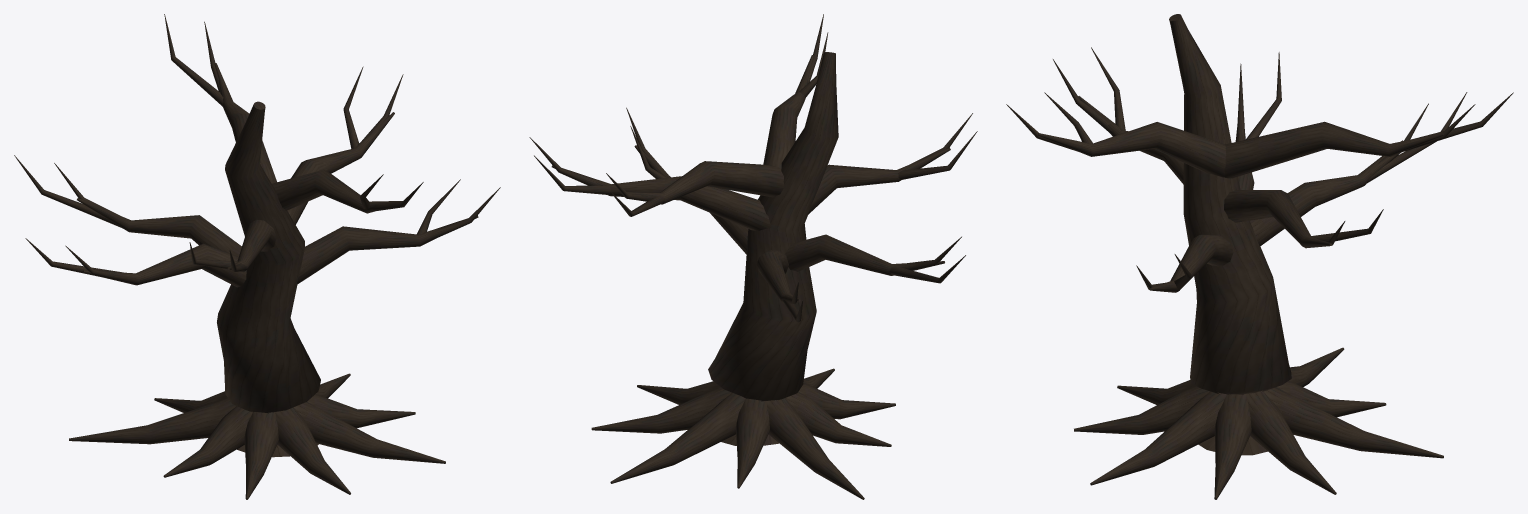
The model's file is p_deadtree.glb.
The picture shows the model from 3 angles, left to right: view 1: azimuth 30°, elevation 25°; view 2: azimuth 150°, elevation 25°; view 3: azimuth 270°, elevation 25°; orthographic projection. The views are drawn at different scales.
Visible parts, largest first — view 1: ASSET_CourtyardTree; view 2: ASSET_CourtyardTree; view 3: ASSET_CourtyardTree.
Part boxes in pixels (x1,y1,x2,y2): ASSET_CourtyardTree: (14,14,500,499); ASSET_CourtyardTree: (529,14,977,499); ASSET_CourtyardTree: (1006,14,1513,499).
Size of the model in its own units: 1.16 by 1 by 1.16.
Materials: 1 (1 with a texture image).
